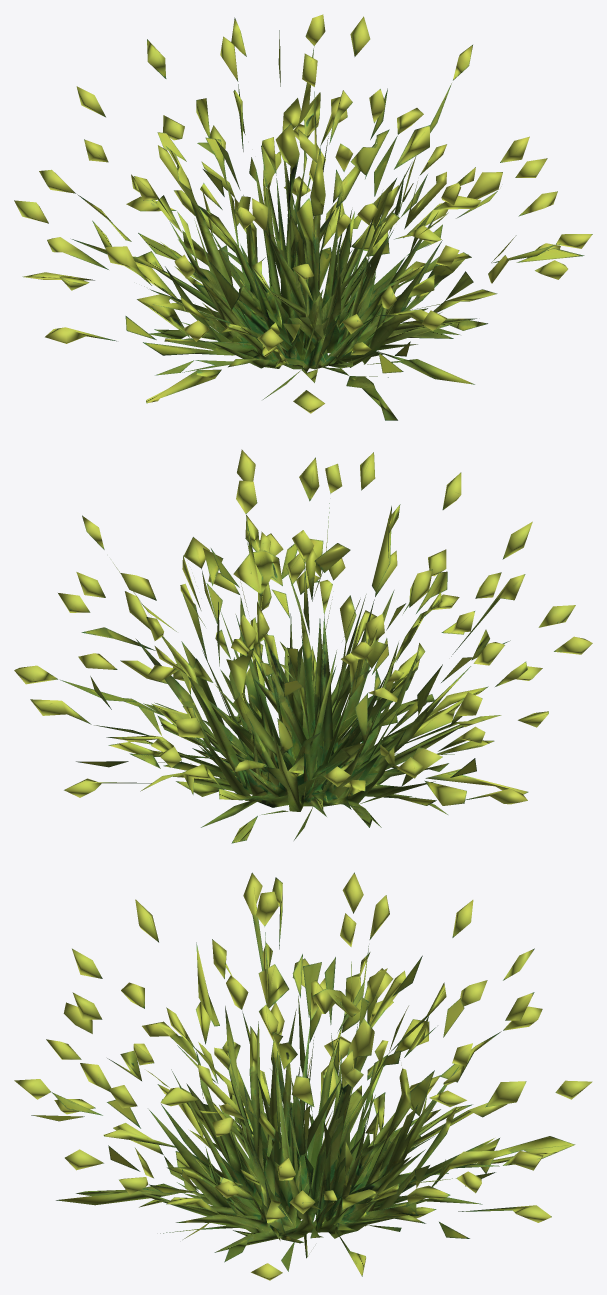
File: Meshy_AI_Golden_Leaf_Bush_0523070706_texture.fbx
The picture shows the model from 3 angles, top to bottom: view 1: azimuth 30°, elevation 25°; view 2: azimuth 150°, elevation 25°; view 3: azimuth 270°, elevation 25°; orthographic projection. The views are drawn at different scales.
Visible parts, largest first — view 1: Mesh_0; view 2: Mesh_0; view 3: Mesh_0.
Part boxes in pixels (x1=…): Mesh_0: x1=14, y1=14, x2=592, y2=420; Mesh_0: x1=14, y1=449, x2=592, y2=843; Mesh_0: x1=14, y1=872, x2=592, y2=1280.
Size of the model in its own units: 191 by 114 by 191.
Materials: 1 (1 with a texture image).
